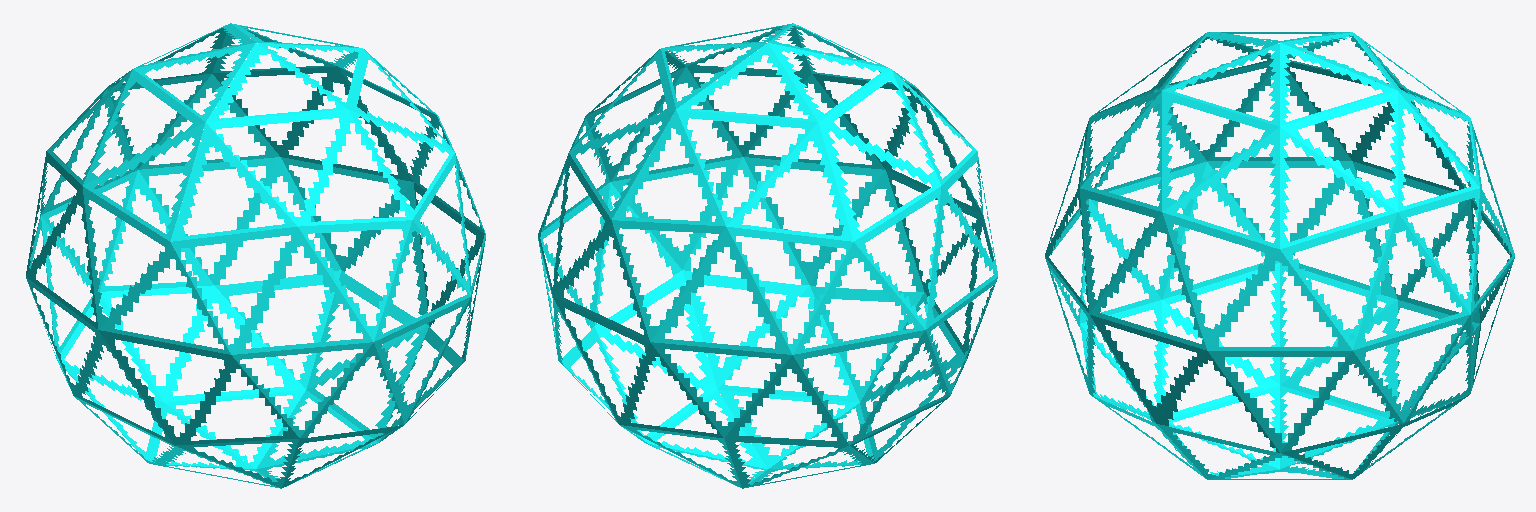
The picture shows the model from 3 angles: view 1: azimuth 30°, elevation 25°; view 2: azimuth 150°, elevation 25°; view 3: azimuth 270°, elevation 25°; orthographic projection.
Parts seen in each view (by area): view 1: ICO球; view 2: ICO球; view 3: ICO球.
Part boxes in pixels (x1,y1,x2,y2): ICO球: (26,23,485,488); ICO球: (538,23,997,488); ICO球: (1045,32,1514,479).
Bounding box in the file's own units: 1.9 × 2 × 2.
1 materials, 1 textured.